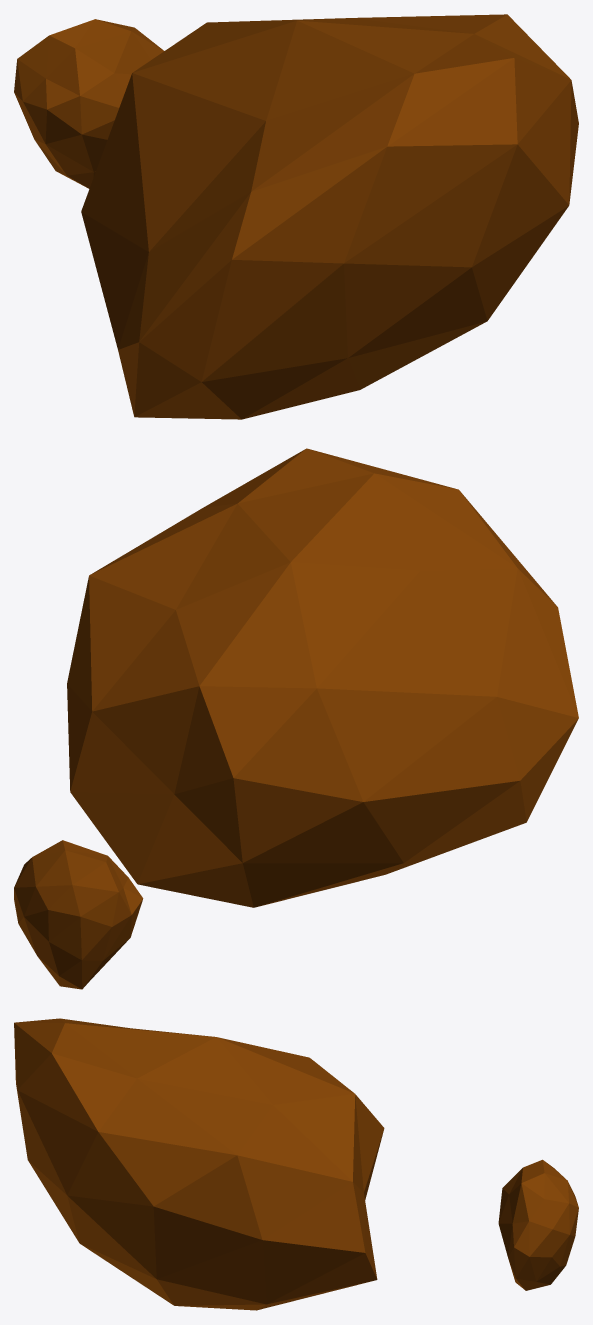
The model's file is Rock6.obj.
3 views of the same model, one above another, from view 1: azimuth 30°, elevation 25°; view 2: azimuth 150°, elevation 25°; view 3: azimuth 270°, elevation 25° (orthographic). The views are drawn at different scales.
Visible parts, largest first — view 1: Icosphere.010; view 2: Icosphere.010; view 3: Icosphere.010.
Part boxes in pixels (<box>): Icosphere.010: <box>14,14,578,419</box>; Icosphere.010: <box>14,448,578,989</box>; Icosphere.010: <box>14,1018,578,1310</box>.
Size of the model in its own units: 1.82 by 1.39 by 2.61.
1 material, 1 textured.
